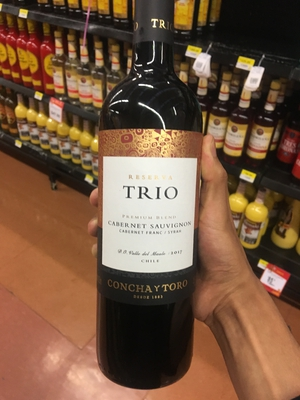trio cabernet sauvignon: (84, 10, 227, 378)
